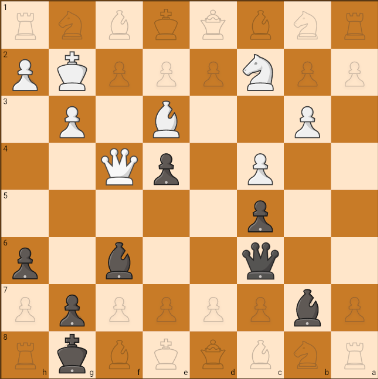bb: (98, 239, 138, 282)
bk: (287, 286, 330, 331), (49, 334, 95, 376)
bp: (2, 241, 45, 282), (238, 194, 280, 235), (148, 146, 187, 189), (53, 287, 89, 330)
bq: (239, 240, 281, 281)
wb: (147, 98, 185, 140), (242, 50, 279, 93)
wk: (52, 51, 95, 95), (98, 147, 142, 188)
wp: (241, 149, 280, 187), (288, 100, 326, 139), (8, 52, 43, 94), (58, 102, 88, 140)
